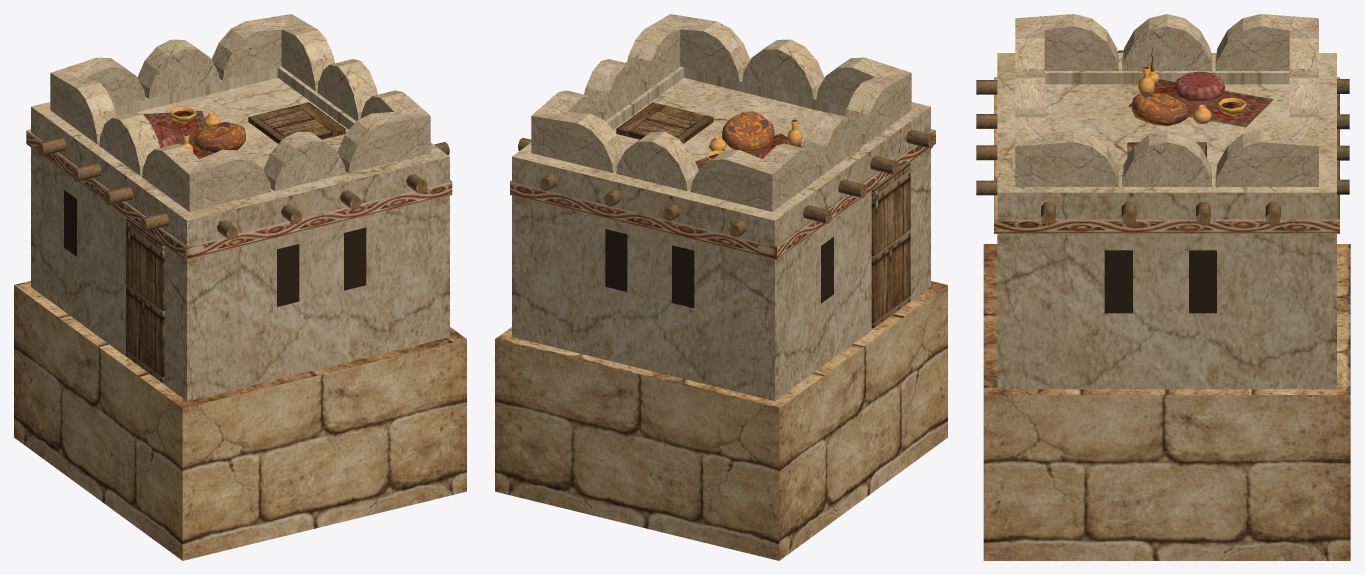
Rendered from house_03.dae.
3 views of the same model, side by side, from view 1: azimuth 30°, elevation 25°; view 2: azimuth 150°, elevation 25°; view 3: azimuth 270°, elevation 25° (orthographic). The views are drawn at different scales.
Parts seen in each view (by area): view 1: house_03; view 2: house_03; view 3: house_03.
Boxes of the visible parts, box(x1,y1,x2,y2) form: house_03: box(14, 14, 466, 560); house_03: box(495, 14, 947, 560); house_03: box(976, 14, 1350, 560).
Size of the model in its own units: 12.84 by 12.54 by 15.04.
